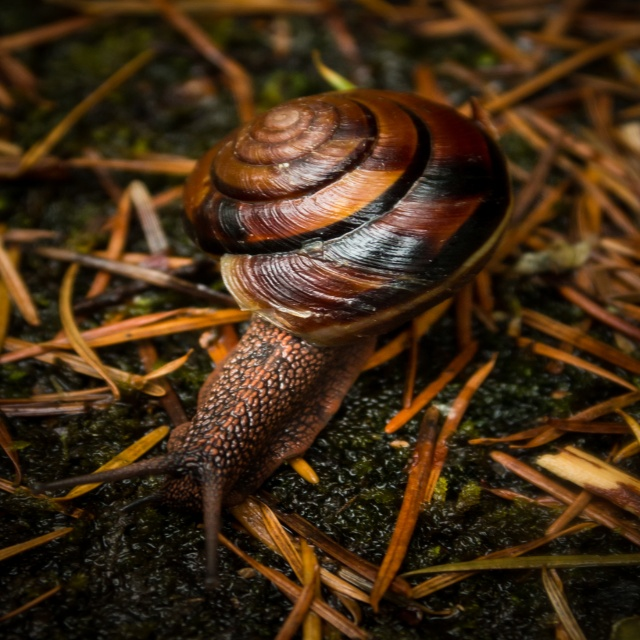Snail: (16, 88, 521, 595)
